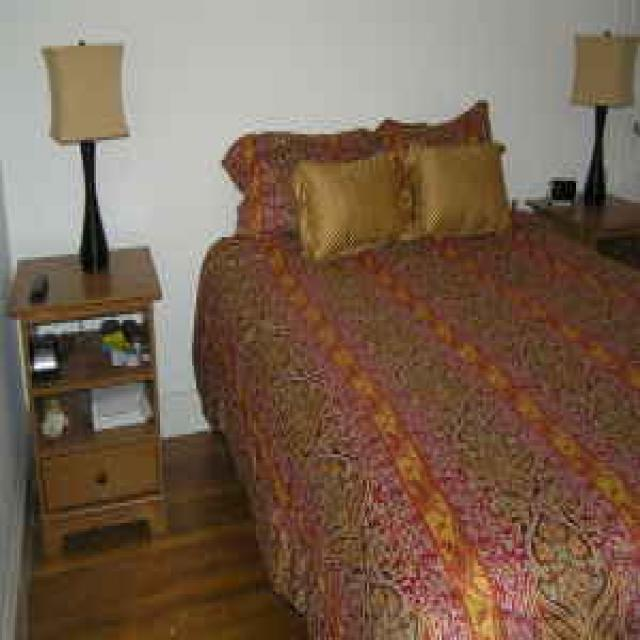bed frame: (188, 97, 636, 637)
clock crop: (548, 174, 578, 209)
cushion occluded: (288, 146, 397, 254), (403, 140, 510, 240)
floor -X: (23, 360, 634, 637)
lamp crop: (41, 40, 126, 269), (561, 31, 636, 209)
night table: (523, 186, 636, 260)
night table crop: (2, 243, 164, 551)
wall clock: (2, 0, 636, 460), (2, 186, 28, 637)
